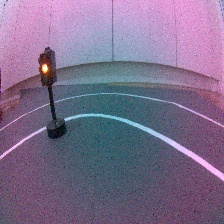amber: (35, 46, 73, 140)
